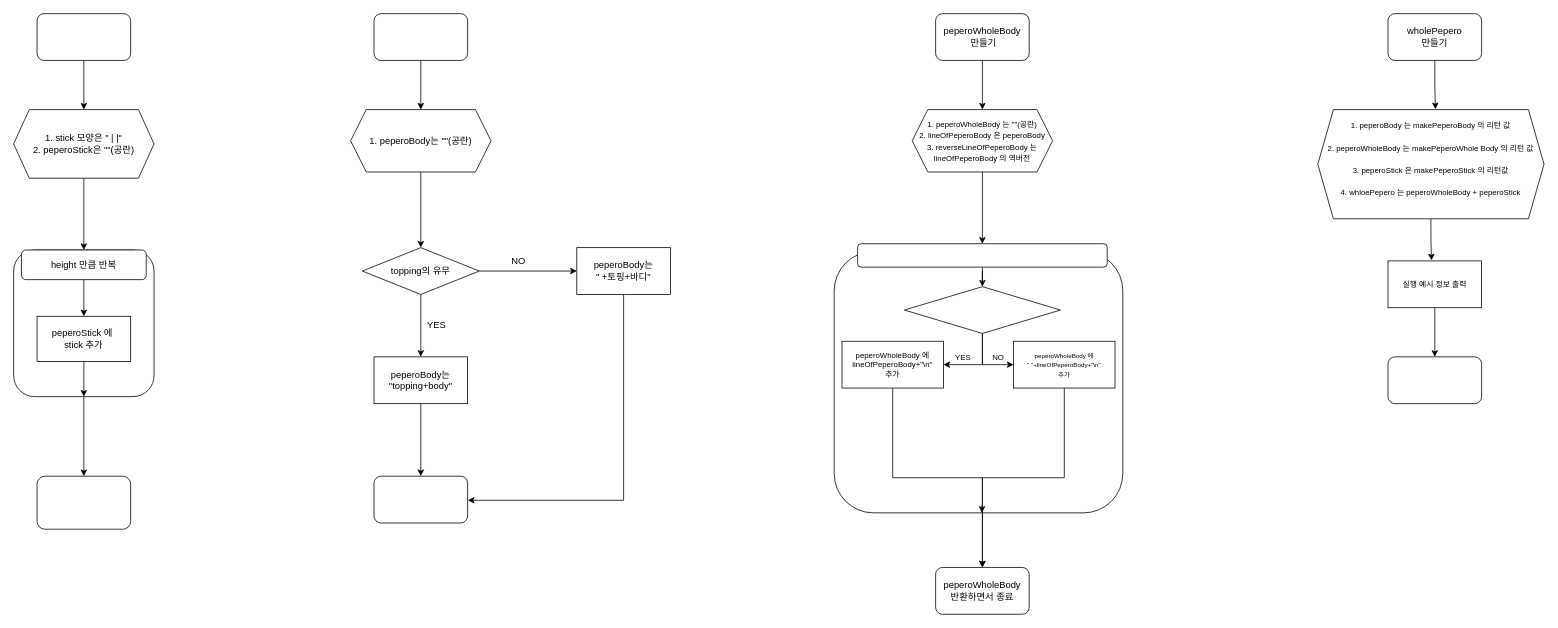
Some shapes in this 1558 by 628 pixel diagram are drawn without their labels. Here are the shapes that lost their labels. From the top down, the centre of each, then its label:
the point at 83,36: peperoStick 만들기
the point at 420,36: peperoBody 만들기
the point at 982,255: bodyHeight 만큼 반복
the point at 982,309: line 이 홀수 인가
the point at 1434,380: wholePepero 반환하면서 종료
the point at 83,502: peperoStick 반환하면서 종료
the point at 420,499: peperoBody 반환하면서 종료
